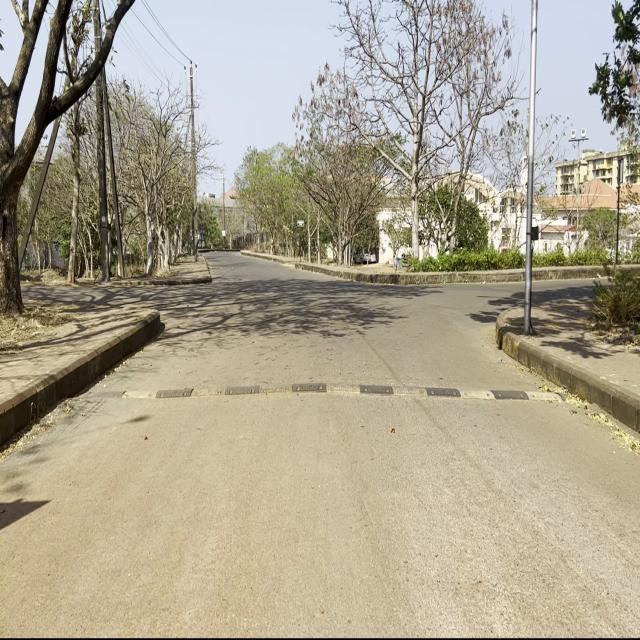Road: (3, 257, 635, 633)
